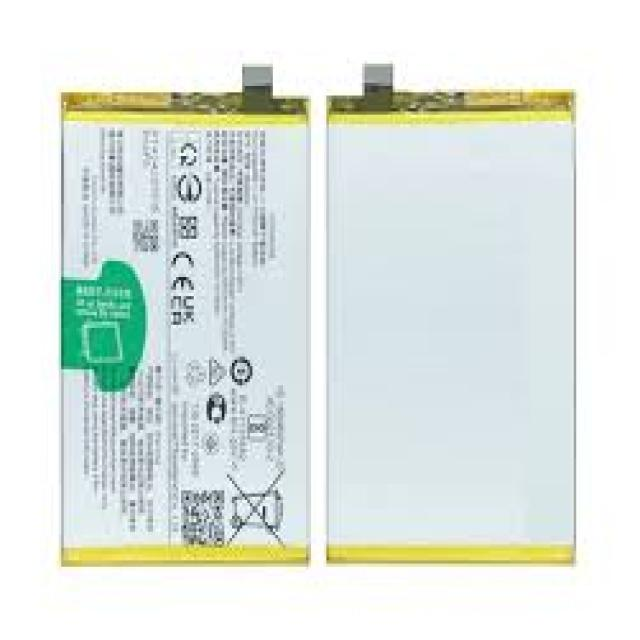Battery: (6, 7, 622, 636), (326, 96, 571, 560), (64, 105, 306, 560)
